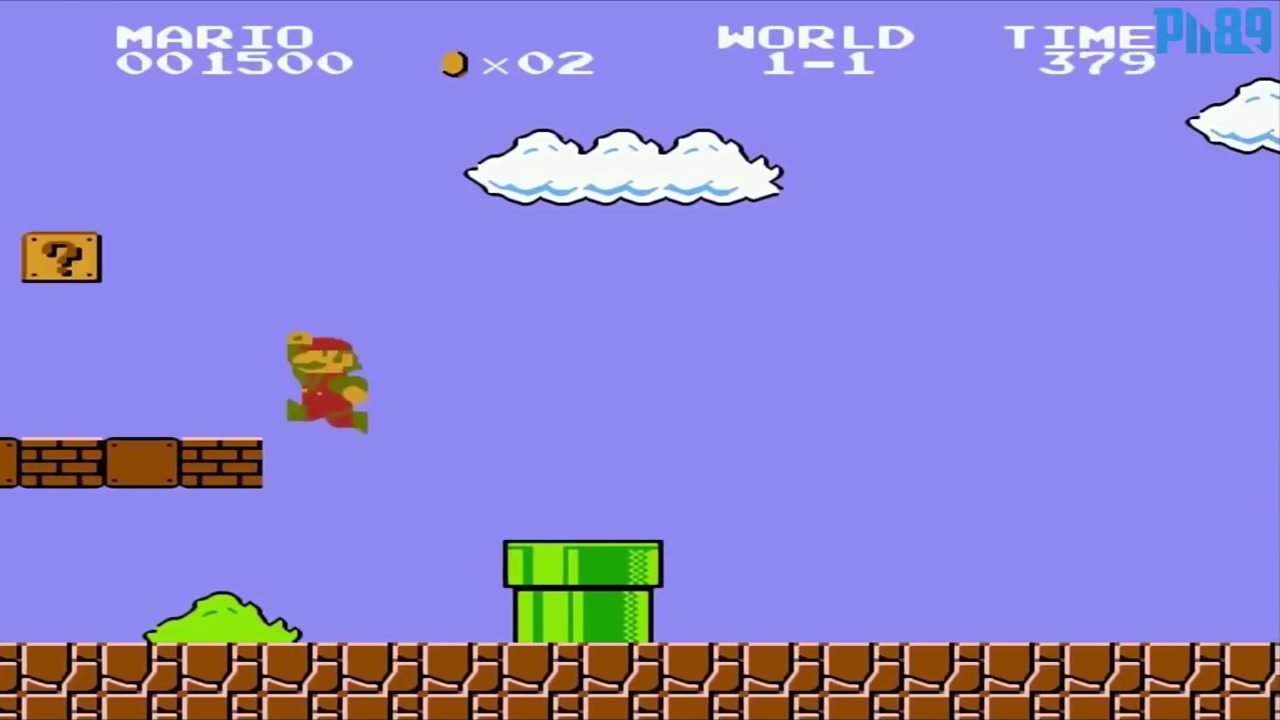mario: (277, 326, 376, 434)
